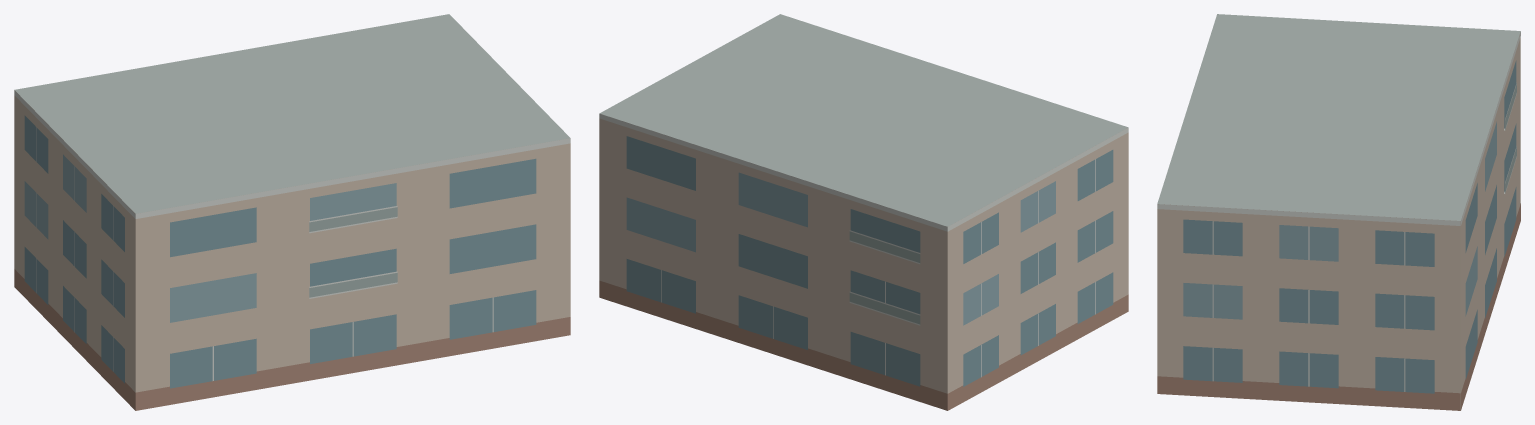
File: survey-upis-32955166.glb
The picture shows the model from 3 angles, left to right: view 1: azimuth 30°, elevation 25°; view 2: azimuth 150°, elevation 25°; view 3: azimuth 270°, elevation 25°; orthographic projection. The views are drawn at different scales.
Parts seen in each view (by area): view 1: survey-upis-32955166.tmp; view 2: survey-upis-32955166.tmp; view 3: survey-upis-32955166.tmp.
Part boxes in pixels (<box>): survey-upis-32955166.tmp: <box>14,14,570,410</box>; survey-upis-32955166.tmp: <box>599,14,1128,410</box>; survey-upis-32955166.tmp: <box>1157,14,1520,410</box>.
Bounding box in the file's own units: 21.41 × 9.15 × 15.89.
